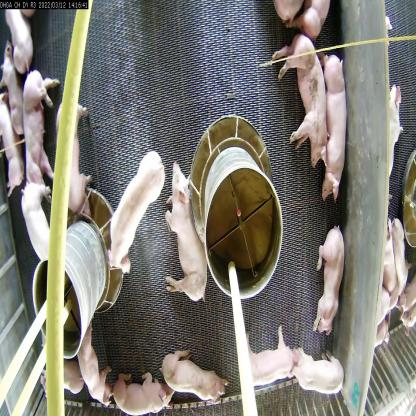Pig: (265, 32, 331, 188), (105, 151, 168, 281), (161, 154, 214, 302), (310, 46, 346, 204), (158, 340, 229, 416), (52, 88, 89, 230), (18, 70, 60, 188), (282, 338, 342, 405), (238, 332, 304, 388), (309, 228, 338, 346), (75, 314, 106, 408), (15, 171, 48, 252), (38, 350, 80, 411), (0, 47, 25, 135), (114, 378, 173, 415), (4, 4, 37, 69), (0, 108, 23, 192)
